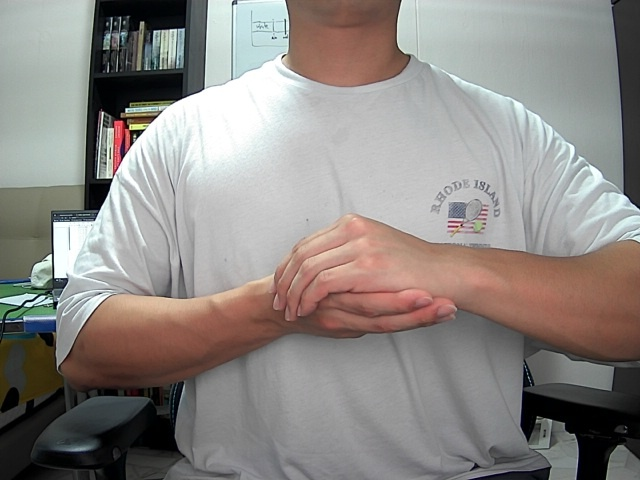Monkey: (252, 193, 478, 371)
